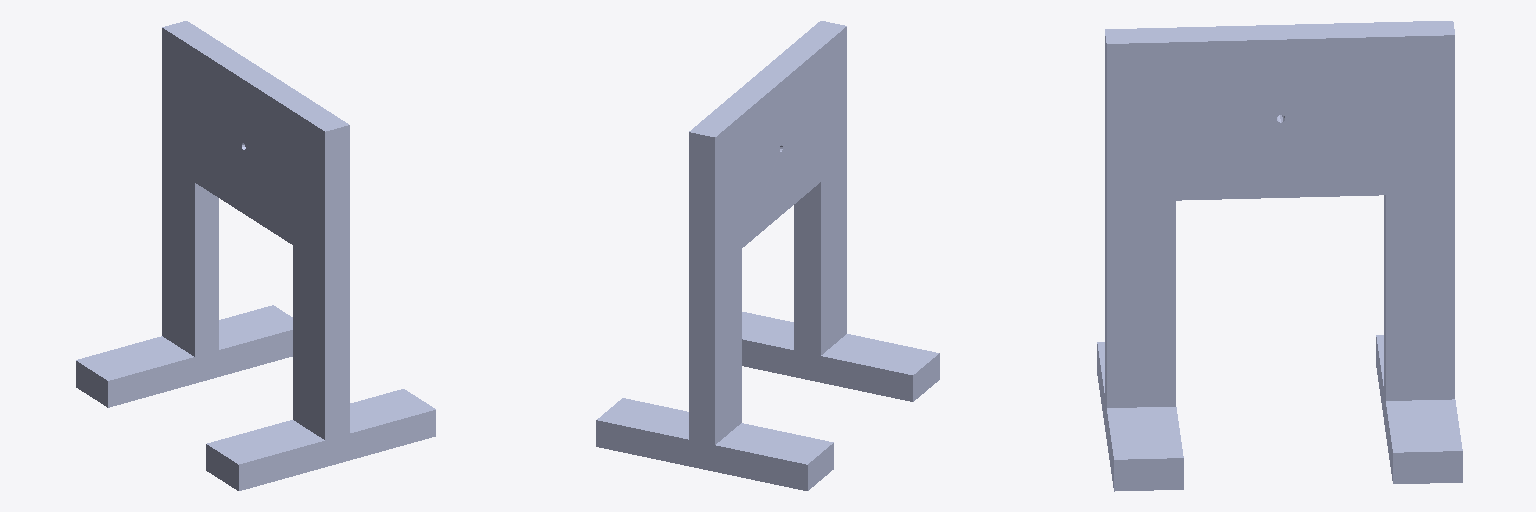
The robot description file, URDF, robot "aaaa":
<?xml version="1.0" encoding="utf-8"?>
<!-- This URDF was automatically created by SolidWorks to URDF Exporter! Originally created by Stephen Brawner (brawner@gmail.com) 
     Commit Version: 1.6.0-4-g7f85cfe  Build Version: 1.6.7995.38578
     For more information, please see http://wiki.ros.org/sw_urdf_exporter -->
<robot
  name="aaaa">
  <link
    name="wall_link">
    <inertial>
      <origin
        xyz="1.11022302462516E-16 -6.93889390390723E-17 -0.420396561017662"
        rpy="0 0 0.06" />
      <mass
        value="107.874336293856" />
      <inertia
        ixx="34.0349908251078"
        ixy="-5.96311194867028E-16"
        ixz="-4.87268595779328E-16"
        iyy="22.1648986717233"
        iyz="4.87821824080794E-16"
        izz="15.4098827138743" />
    </inertial>
    <visual>
      <origin
        xyz="0 0 0"
        rpy="0 0 0.06" />
      <geometry>
        <mesh
          filename="package://hydrus_xi/urdf/mesh/scene/wall_link_25mm.dae" />
      </geometry>
      <material
        name="">
        <color
          rgba="0.792156862745098 0.819607843137255 0.933333333333333 1" />
      </material>
    </visual>
    <collision>
      <origin
        xyz="0 0 0"
        rpy="0 0 0" />
      <geometry>
        <mesh
          filename="package://hydrus_xi/urdf/mesh/scene/wall_link_25mm.dae" />
      </geometry>
    </collision>
  </link>

  <link name="world"/>

  <joint name="joint" type="fixed">
    <parent link="world"/>
    <child link="wall_link"/>
    <origin xyz="2.5 0 1" rpy="0 0 0"/>
    <axis xyz="0 0 1"/> 
  </joint>
</robot>

--- Facts derived from the render (not from the file) ---
3 views of the same robot in one strip: view 1: azimuth 30°, elevation 25°; view 2: azimuth 150°, elevation 25°; view 3: azimuth 270°, elevation 25° (orthographic).
Model aaaa with 2 links and 1 joints (1 fixed), rooted at world, posed all joints at 0.
Visible links, largest first — view 1: wall_link; view 2: wall_link; view 3: wall_link.
Boxes of the visible links, left/top/right/bottom form: wall_link: left=76, top=21, right=435, bottom=490; wall_link: left=596, top=21, right=939, bottom=490; wall_link: left=1097, top=21, right=1462, bottom=491.
Bounding box of the posed robot: 0.8585 × 1.05 × 1.25 m (x, y, z).
1 mesh visuals loaded from 1 distinct referenced files (1 Collada DAE).
